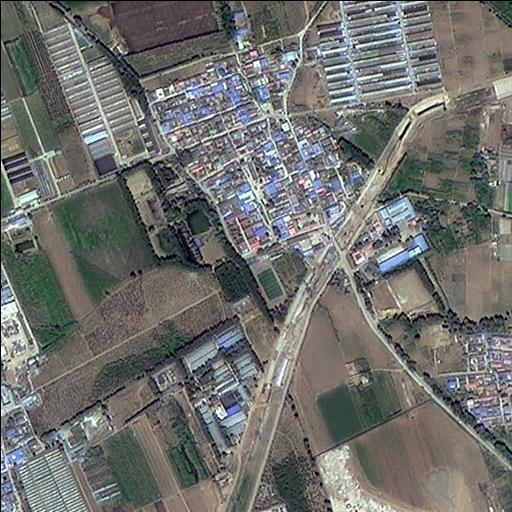school: (222, 205, 286, 314)
